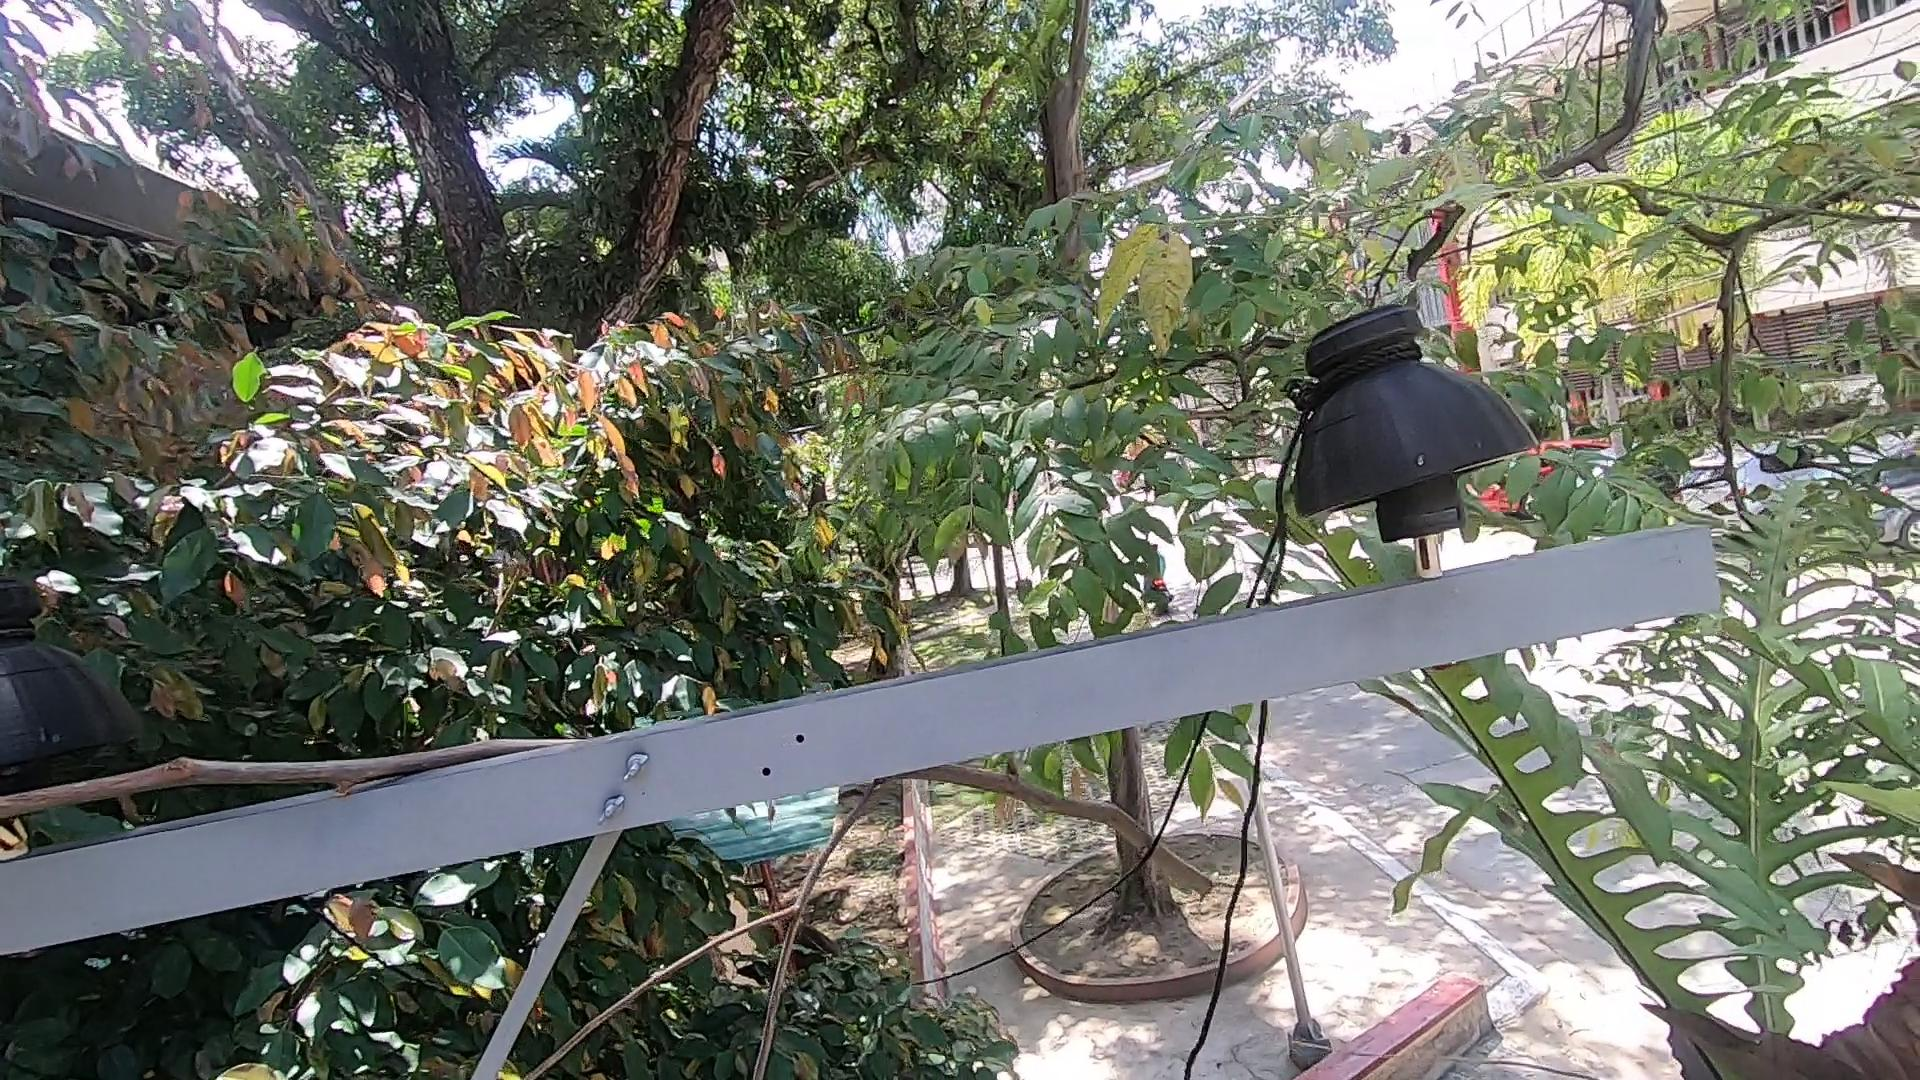tree branch: (513, 785, 882, 1080), (1, 731, 562, 831), (897, 766, 1215, 913)
